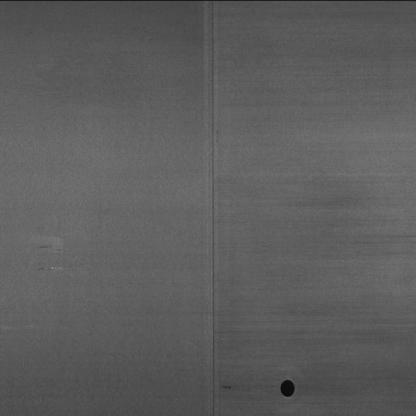punching_hole: (273, 374, 300, 400)
welding_line: (202, 5, 235, 416)
